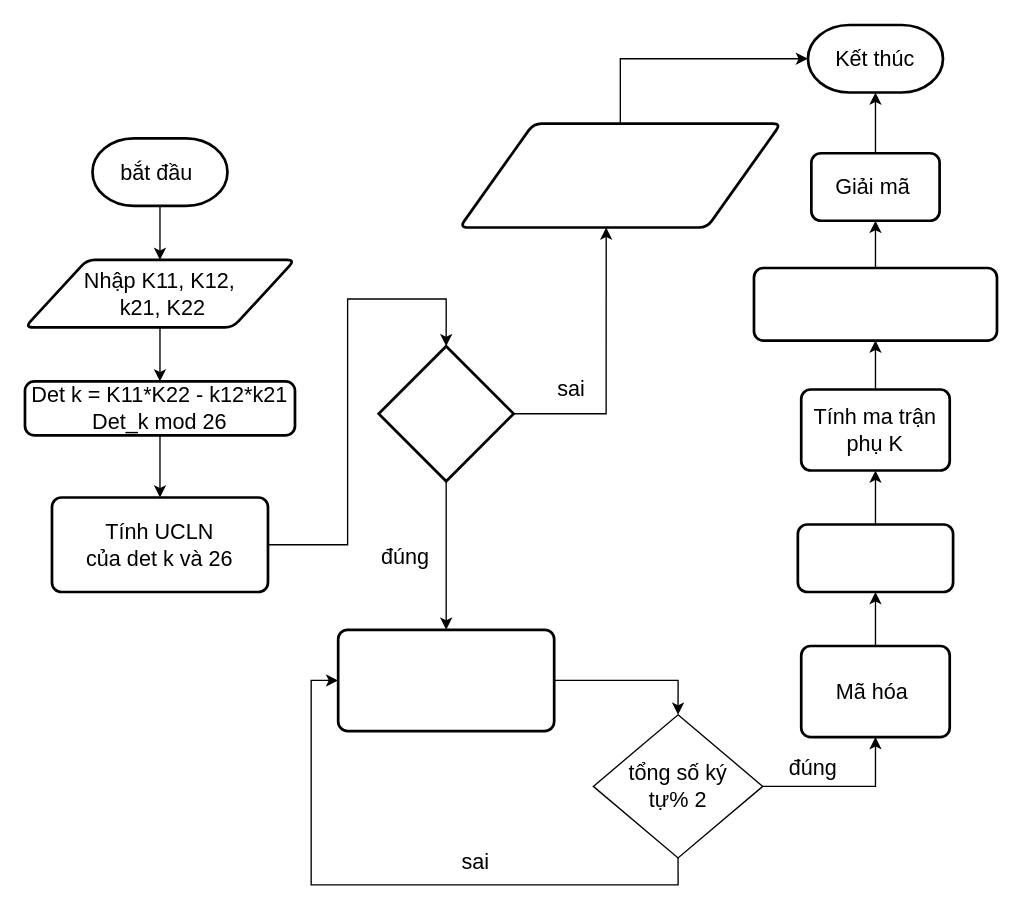
Some shapes in this 1021 by 919 pixel diagram are drawn without their labels. Here are the shapes that lost their labels. From the top down, the centre of each, then its label:
[620,175]: Không tìm được ma trận nghịch đảo
[875,303]: K -1 = (det K) -1 * Phụ k
[445,413]: UCLN =1
[875,557]: Tính (det K) -1
[445,680]: Nhập chuỗi cần mã hóa, ký tự in hoa
